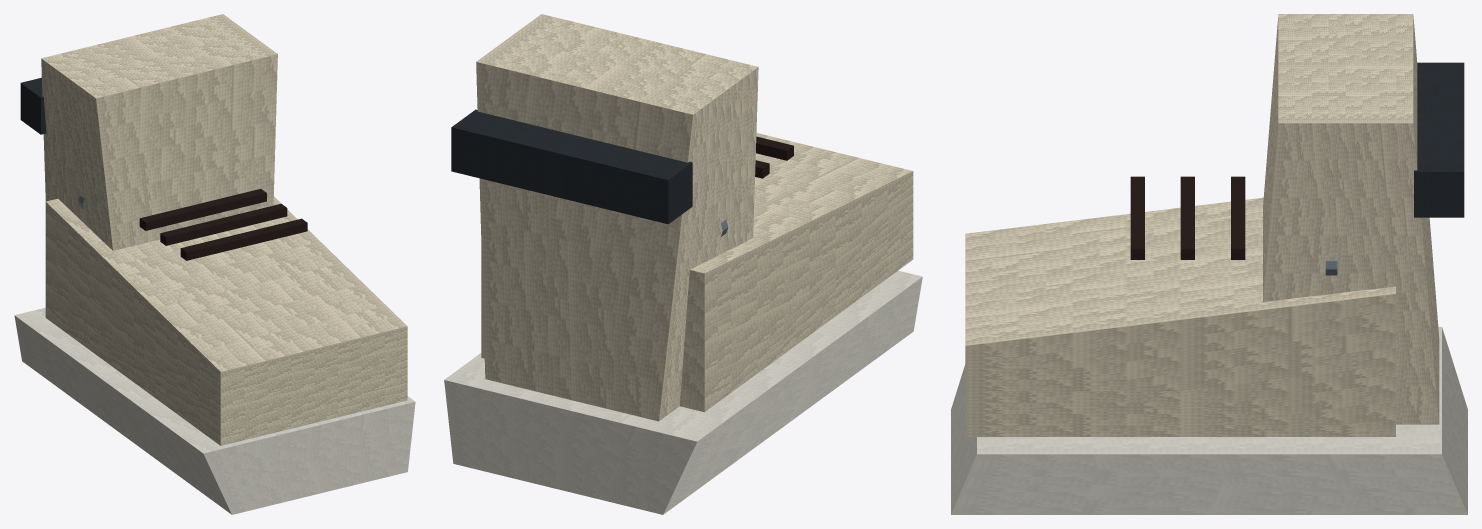
File: high_top.gltf
3 renders of one model, left to right at view 1: azimuth 30°, elevation 25°; view 2: azimuth 150°, elevation 25°; view 3: azimuth 270°, elevation 25°, orthographic. The views are drawn at different scales.
Parts seen in each view (by area): view 1: Beacon High-Top; view 2: Beacon High-Top; view 3: Beacon High-Top.
Boxes of the visible parts, <box> form: Beacon High-Top: <box>14,14,415,514</box>; Beacon High-Top: <box>444,14,922,514</box>; Beacon High-Top: <box>951,14,1467,514</box>.
Size of the model in its own units: 0.21 by 0.3025 by 0.36.
5 materials, 5 textured.
